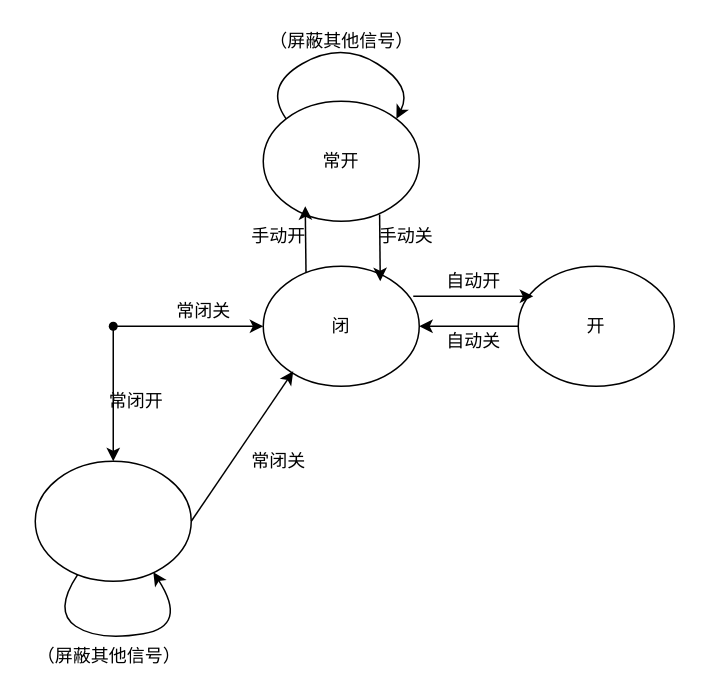
Image size: 701x696. Some labels were removed from this diagram. The centre of each missing label's shape, as x and y in pixels:
常闭: point 112,520
开始: point 112,325
